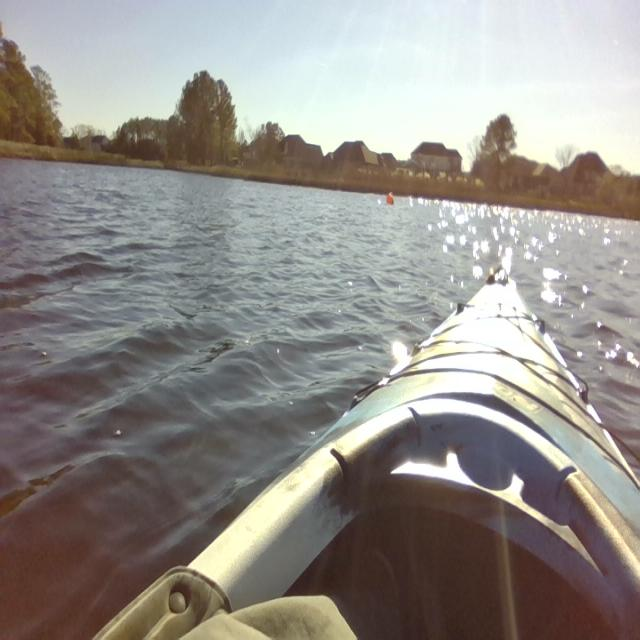Buoy: (380, 187, 403, 208)
